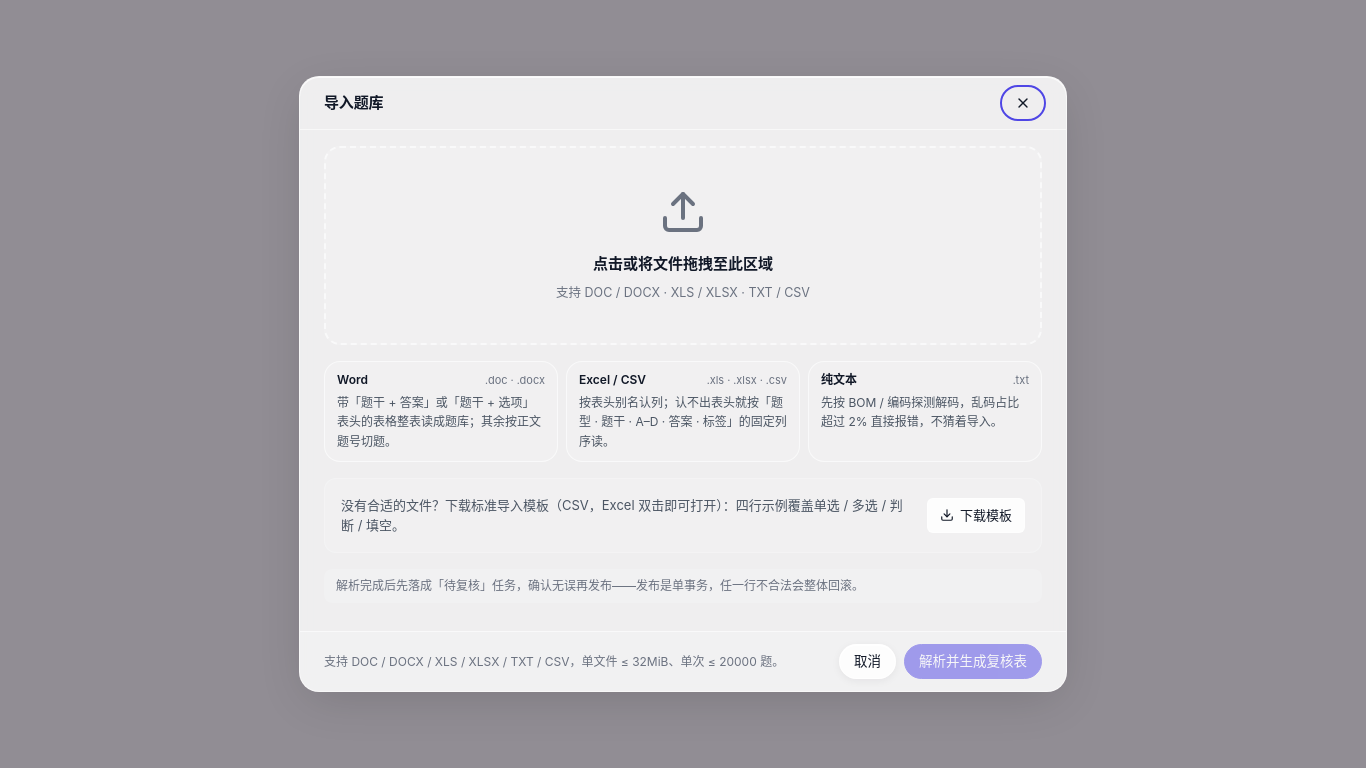
Scenario: 导入向导：解析 → 复核 → 发布 › 选文件后解析，复核表列出摘要与每一行的问题码
Click the button with aria-label "选择题库文件": (683, 212) [324, 146, 1042, 345]
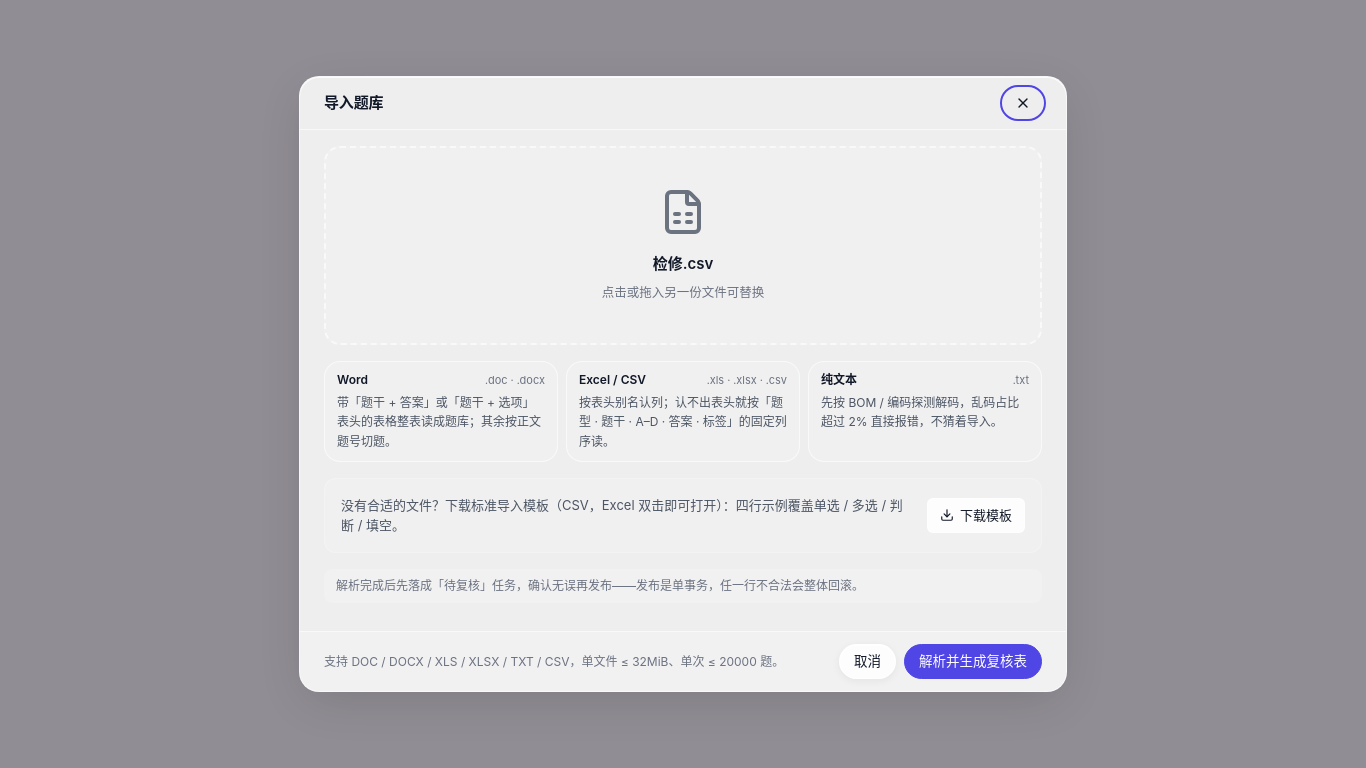
Now the text "检修.csv" is shown, box [653, 254, 713, 273]
Click the button "解析并生成复核表": (973, 662) [904, 644, 1042, 679]
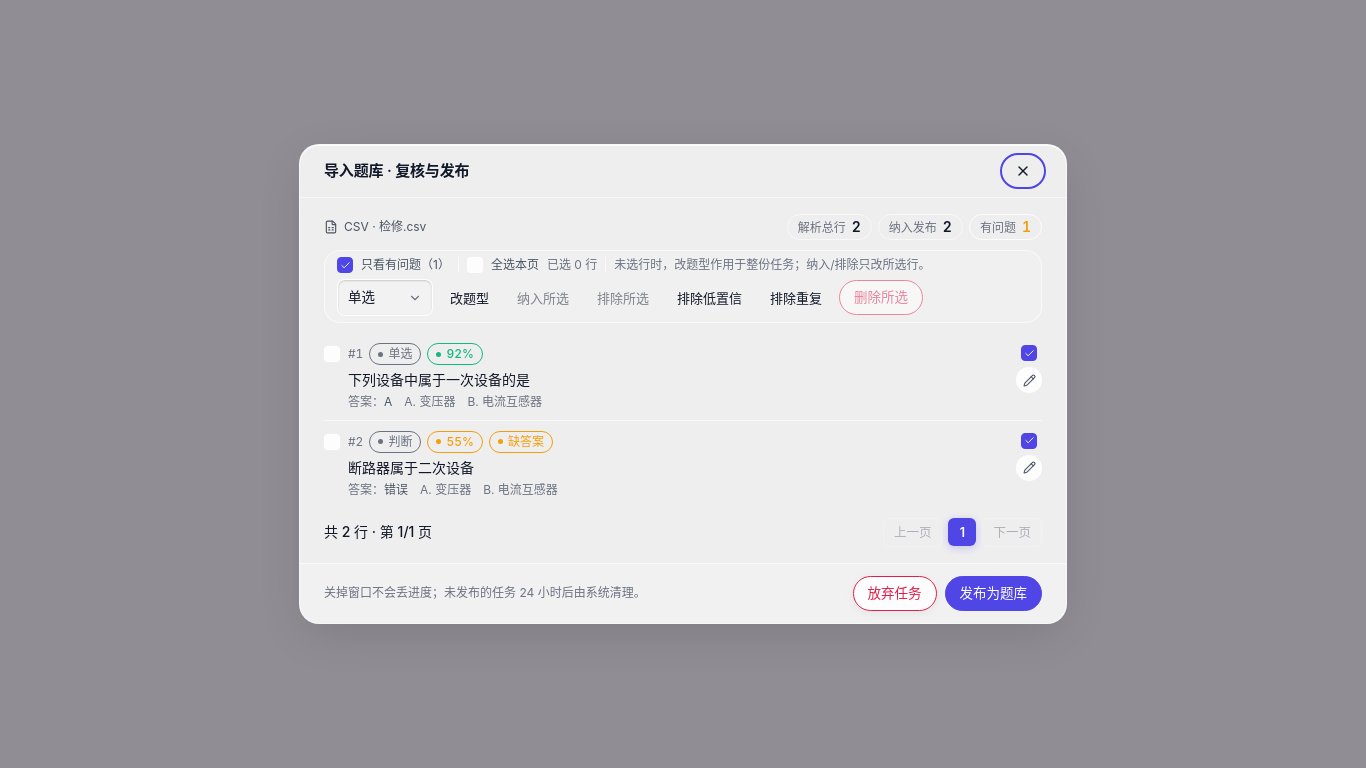
Now the text "解析总行" is shown, box [798, 220, 846, 236]
Now the text "下列设备中属于一次设备的是" is shown, box [348, 371, 530, 388]
Now the text "缺答案" is shown, box [489, 431, 553, 453]
